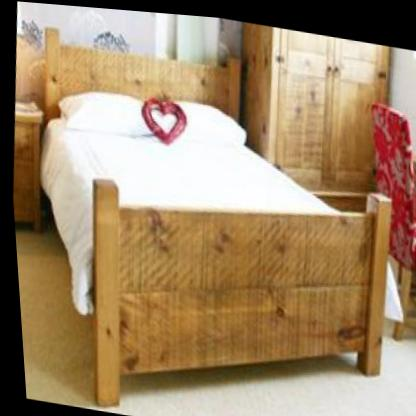Bed: (9, 18, 416, 416)
